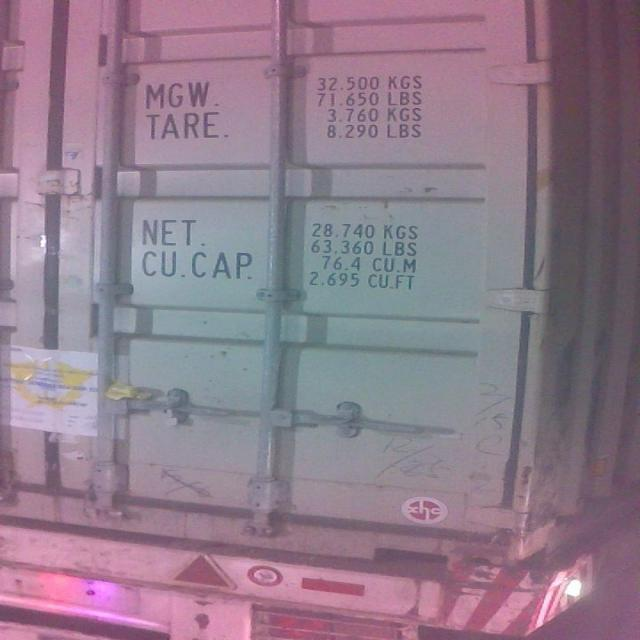seal: (160, 394, 185, 431)
